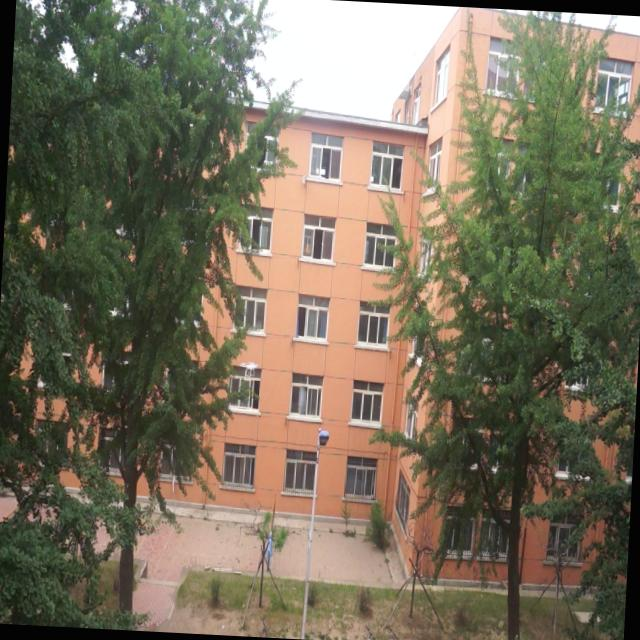drone: (240, 356, 259, 378)
